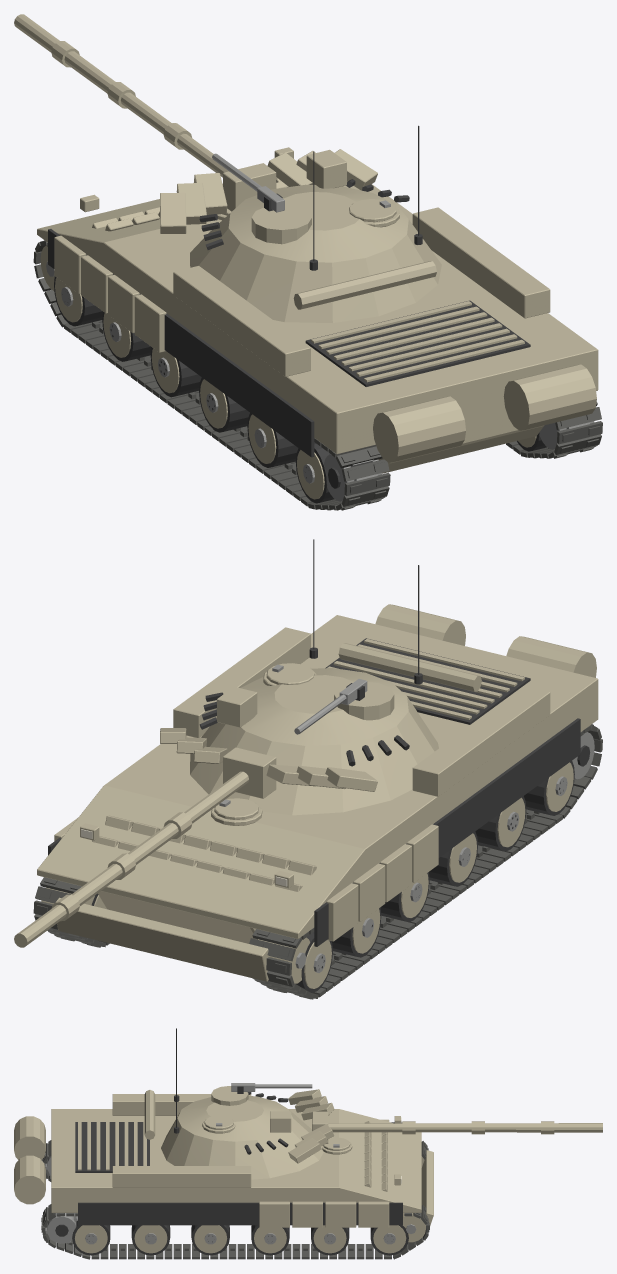
Rendered from rus_mbt_72b.glb.
3 renders of one model, top to bottom at view 1: azimuth 30°, elevation 25°; view 2: azimuth 150°, elevation 25°; view 3: azimuth 270°, elevation 25°, orthographic. The views are drawn at different scales.
Parts seen in each view (by area): view 1: body, turret, barrel; view 2: body, turret, barrel; view 3: body, turret, barrel.
Part boxes in pixels (x1,y1,x2,y2): body: (33, 147, 602, 510); turret: (160, 125, 441, 322); barrel: (14, 14, 276, 211); body: (33, 604, 602, 999); turret: (160, 539, 481, 815); barrel: (14, 747, 276, 947); body: (14, 1094, 433, 1259); turret: (144, 1028, 334, 1179); barrel: (312, 1111, 602, 1143).
Size of the model in its own units: 3.74 by 3.67 by 11.05.
